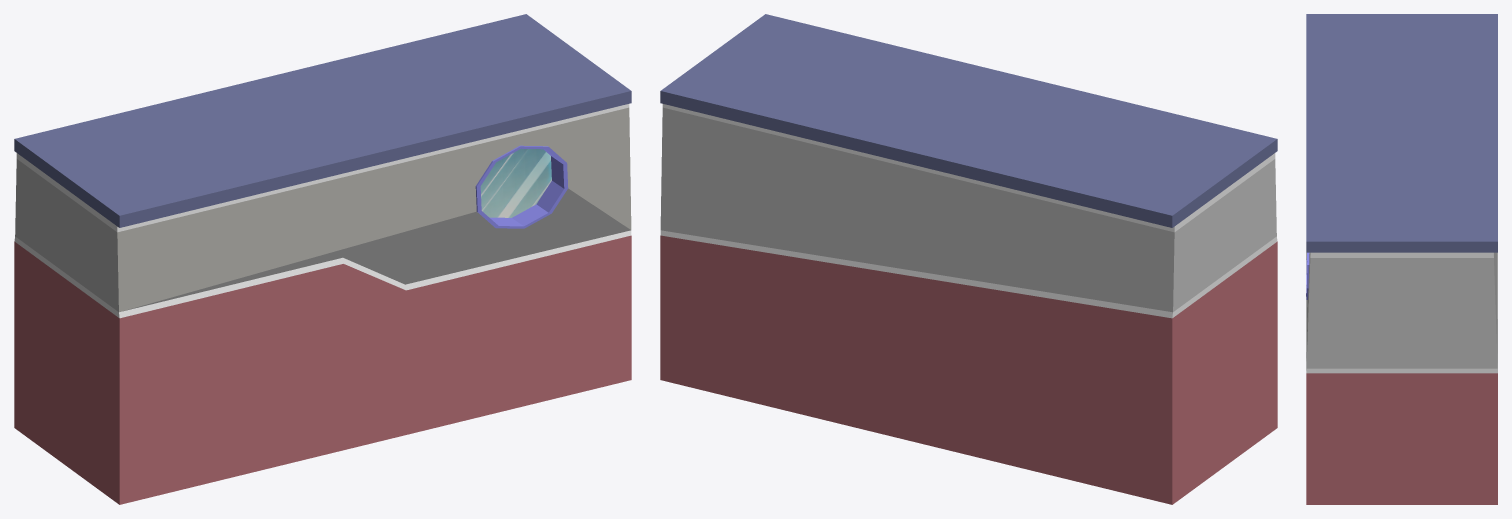
Rendered from 0_1_Building_1_1.fbx.
3 views of the same model, side by side, from view 1: azimuth 30°, elevation 25°; view 2: azimuth 150°, elevation 25°; view 3: azimuth 270°, elevation 25° (orthographic). The views are drawn at different scales.
Visible parts, largest first — view 1: 0_1_Building_1; view 2: 0_1_Building_1; view 3: 0_1_Building_1.
Part boxes in pixels (x1,y1,x2,y2): 0_1_Building_1: [14, 14, 631, 504]; 0_1_Building_1: [660, 14, 1277, 504]; 0_1_Building_1: [1306, 14, 1497, 504].
Size of the model in its own units: 2250 by 1214 by 801.
